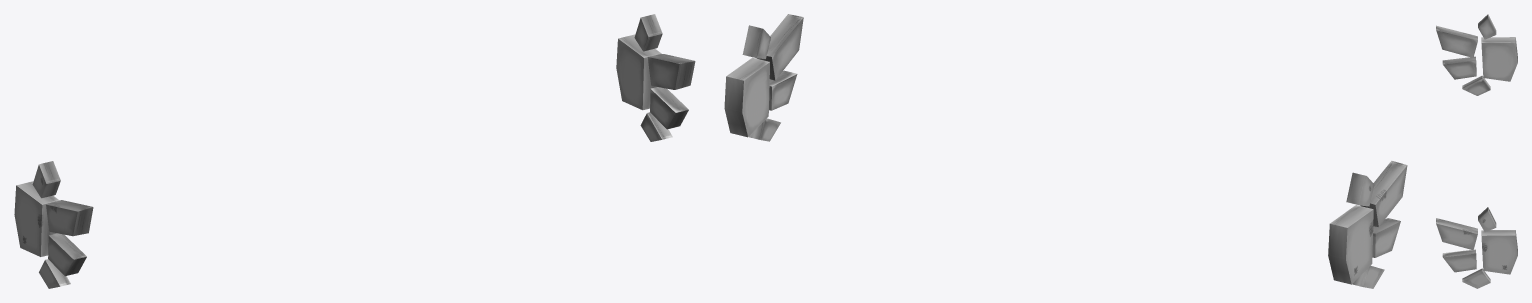
File: GDC_main_character_hands_model_NO-ANI.fbx
3 renders of one model, left to right at view 1: azimuth 30°, elevation 25°; view 2: azimuth 150°, elevation 25°; view 3: azimuth 270°, elevation 25°, orthographic. The views are drawn at different scales.
Visible parts, largest first — view 1: hand_palm2, pasted__hand_palm2; view 2: hand_palm2, pasted__hand_palm2; view 3: pasted__hand_palm2, hand_palm2.
Part boxes in pixels (bbox=[...]): hand_palm2: bbox=[14, 161, 93, 288]; pasted__hand_palm2: bbox=[616, 14, 695, 141]; hand_palm2: bbox=[1328, 160, 1407, 288]; pasted__hand_palm2: bbox=[724, 14, 803, 141]; pasted__hand_palm2: bbox=[1436, 207, 1517, 288]; hand_palm2: bbox=[1436, 14, 1517, 95].
Bounding box in the file's own units: 6 × 1.1 × 1.05.
